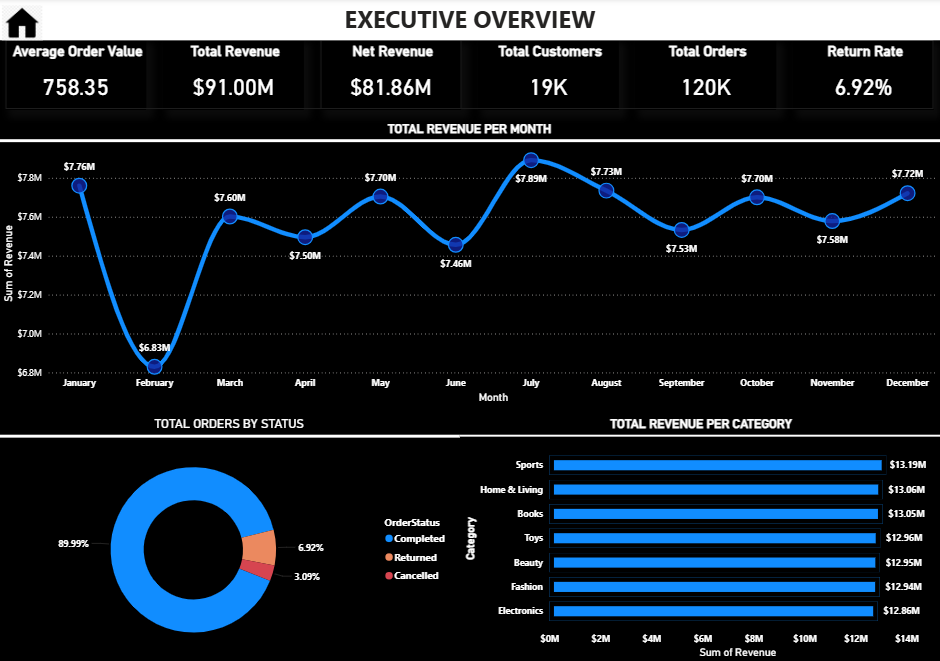

The page's visual inventory and layout, read from the dashboard file:
{"tool":"powerbi","page":{"name":"Executive Overview","canvas":[1280,900],"ordinal":1},"visuals":[{"type":"group","id":"g1","title":"Group 1","box":[10.7,56.7,1258.6,94.5],"z":0},{"type":"card","title":"Net Revenue","fields":{"Values":["Measure_Table.Net Revenue"]},"box":[437.8,56.7,190.9,94.5],"z":0,"group":"g1"},{"type":"card","title":"Total Revenue","fields":{"Values":["Measure_Table.Total Revenue"]},"box":[224.2,56.7,190.9,94.5],"z":1000,"group":"g1"},{"type":"lineChart","title":"TOTAL REVENUE PER MONTH","fields":{"Y":["Sum(Main_Data.Revenue)"],"Category":["Date_Table.Month"]},"box":[0,166.5,1278.4,386.7],"z":1000},{"type":"card","title":"Total Customers","fields":{"Values":["Measure_Table.Total Customers"]},"box":[651.3,56.7,190.9,94.5],"z":2000,"group":"g1"},{"type":"clusteredBarChart","title":"TOTAL REVENUE PER CATEGORY","fields":{"Category":["Main_Data.Category"],"Y":["Sum(Main_Data.Revenue)"]},"box":[626.7,567.6,653.5,333],"z":2000},{"type":"card","title":"Total Orders","fields":{"Values":["Measure_Table.Total Orders"]},"box":[864.9,56.7,190.9,94.5],"z":3000,"group":"g1"},{"type":"donutChart","title":"TOTAL ORDERS  BY STATUS","fields":{"Y":["Measure_Table.Total Orders"],"Category":["Main_Data.OrderStatus"]},"box":[0,568.1,625.9,333.2],"z":3000},{"type":"textbox","box":[0,0,1278.4,57.3],"z":4000},{"type":"card","title":"Return Rate","fields":{"Values":["Measure_Table.Return Rate"]},"box":[1078.4,56.7,190.9,94.5],"z":4000,"group":"g1"},{"type":"card","title":"Average Order Value","fields":{"Values":["Measure_Table.AOV"]},"box":[10.7,56.7,190.9,94.5],"z":5000,"group":"g1"},{"type":"image","box":[0,0,65.1,67.1],"z":5004}]}

Visuals, with their boxes in screenshot pixels (x1, y1, x2, y2), scaled from the page's 1280x900 canvas onto the 940x661 screenshot:
"Group 1" group: box(8, 42, 932, 111)
"Net Revenue" card: box(322, 42, 462, 111)
"Total Revenue" card: box(165, 42, 305, 111)
"TOTAL REVENUE PER MONTH" lineChart: box(0, 122, 939, 406)
"Total Customers" card: box(478, 42, 618, 111)
"TOTAL REVENUE PER CATEGORY" clusteredBarChart: box(460, 417, 939, 660)
"Total Orders" card: box(635, 42, 775, 111)
"TOTAL ORDERS  BY STATUS" donutChart: box(0, 417, 460, 660)
textbox: box(0, 0, 939, 42)
"Return Rate" card: box(792, 42, 932, 111)
"Average Order Value" card: box(8, 42, 148, 111)
image: box(0, 0, 48, 49)
